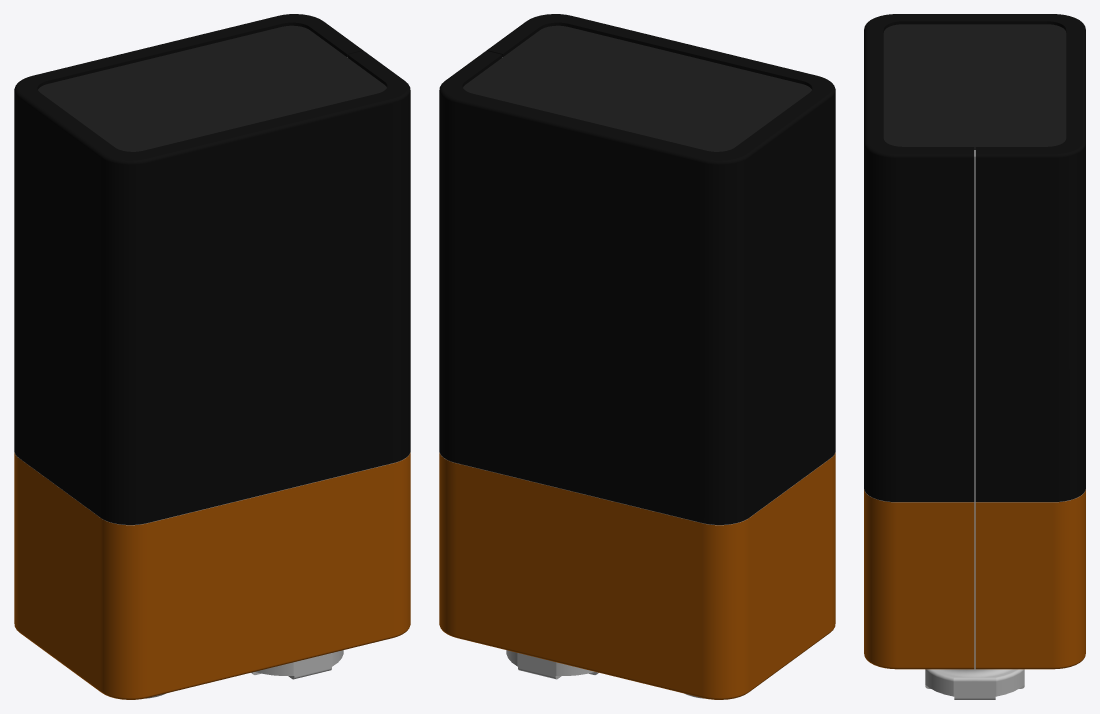
The model's file is 9V-battery v1.fbx.
The picture shows the model from 3 angles, left to right: view 1: azimuth 30°, elevation 25°; view 2: azimuth 150°, elevation 25°; view 3: azimuth 270°, elevation 25°; orthographic projection. The views are drawn at different scales.
Parts seen in each view (by area): view 1: Body1; view 2: Body1; view 3: Body1.
Boxes of the visible parts, x1,y1,x2,y2 form: Body1: (14,14,410,699); Body1: (439,14,835,699); Body1: (864,14,1085,699).
Size of the model in its own units: 1.03 by 1.88 by 0.675.
